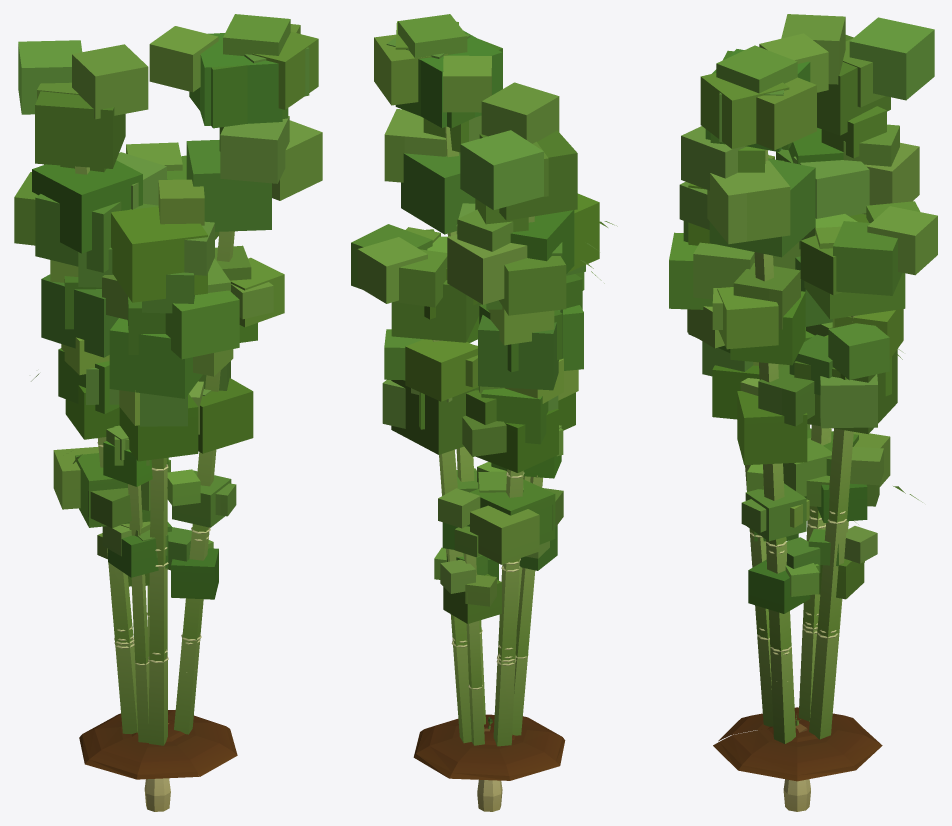
Rendered from bamboo.glb.
3 views of the same model, side by side, from view 1: azimuth 30°, elevation 25°; view 2: azimuth 150°, elevation 25°; view 3: azimuth 270°, elevation 25° (orthographic). The views are drawn at different scales.
Parts seen in each view (by area): view 1: stage4_foliage, stage4_l1_foliage, stage3_foliage, stage3_l1_foliage, stage4_stem, stage2_foliage, stage2_soil, stage4_l1_stem, stage2_l1_foliage, stage2_stem, fruit_fruitMatte; view 2: stage4_foliage, stage4_l1_foliage, stage3_foliage, stage2_foliage, stage2_soil, stage4_stem, stage3_l1_foliage, stage2_stem, stage4_l1_stem, fruit_fruitMatte; view 3: stage4_foliage, stage3_foliage, stage4_l1_foliage, stage4_stem, stage2_foliage, stage2_soil, stage3_l1_foliage, stage4_l1_stem, stage2_l1_foliage, fruit_fruitMatte.
Boxes of the visible parts, box(x1,y1,x2,y2) form: stage4_foliage: box(14, 14, 322, 398); stage4_l1_foliage: box(32, 26, 322, 357); stage3_foliage: box(53, 232, 273, 528); stage3_l1_foliage: box(64, 247, 284, 453); stage4_stem: box(75, 166, 234, 745); stage2_foliage: box(97, 425, 236, 598); stage2_soil: box(79, 710, 237, 779); stage4_l1_stem: box(97, 231, 232, 734); stage2_l1_foliage: box(167, 469, 231, 599); stage2_stem: box(128, 484, 186, 742); fruit_fruitMatte: box(144, 778, 170, 811); stage4_foliage: box(351, 14, 599, 454); stage4_l1_foliage: box(384, 21, 574, 390); stage3_foliage: box(406, 227, 585, 564); stage2_foliage: box(434, 425, 563, 623); stage2_soil: box(413, 714, 565, 780); stage4_stem: box(432, 126, 534, 746); stage3_l1_foliage: box(462, 304, 562, 472); stage2_stem: box(463, 475, 542, 745); stage4_l1_stem: box(448, 233, 523, 746); fruit_fruitMatte: box(477, 780, 502, 811); stage4_foliage: box(669, 14, 937, 434); stage3_foliage: box(683, 214, 891, 498); stage4_l1_foliage: box(700, 33, 886, 326); stage4_stem: box(745, 149, 857, 743); stage2_foliage: box(741, 447, 883, 613); stage2_soil: box(713, 707, 882, 781); stage3_l1_foliage: box(717, 238, 809, 464); stage4_l1_stem: box(754, 252, 831, 743); stage2_l1_foliage: box(745, 464, 819, 613); fruit_fruitMatte: box(783, 779, 810, 811).
Size of the model in its own units: 0.9247 by 2.82 by 0.9481.
